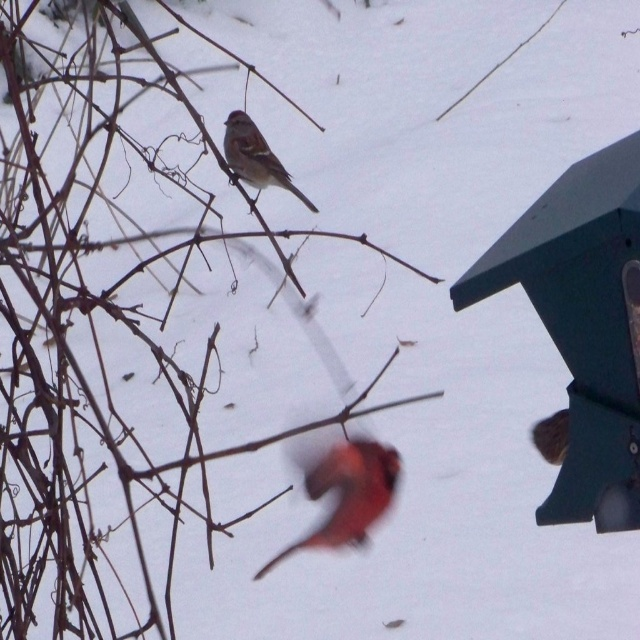Sparrow: (222, 106, 319, 212)
